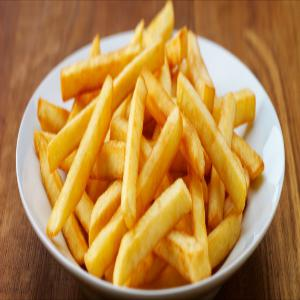fries: (35, 13, 268, 280)
